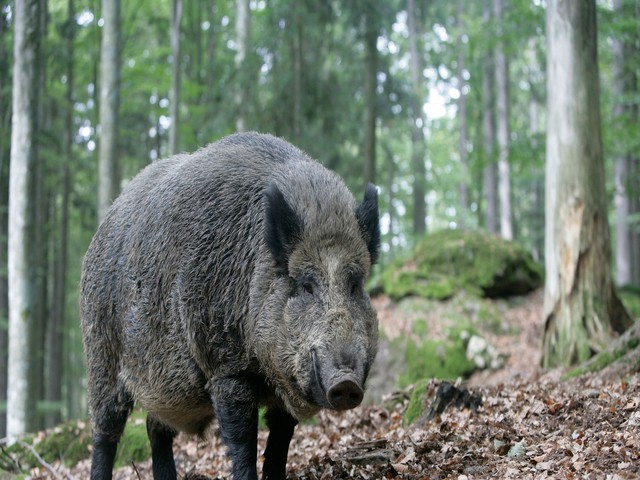Pig: (79, 125, 388, 480)
